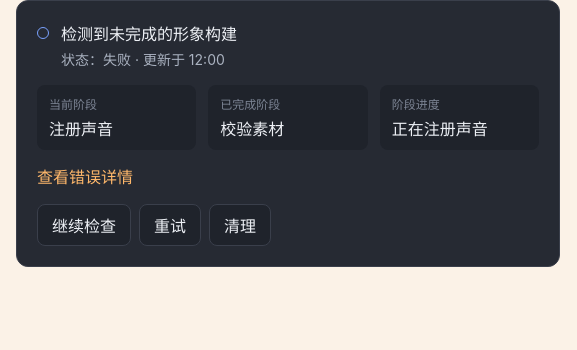
Test case: BuildRecoveryCard › reveals error detail when requested
Click the button "查看错误详情": (85, 176) [37,164,133,188]
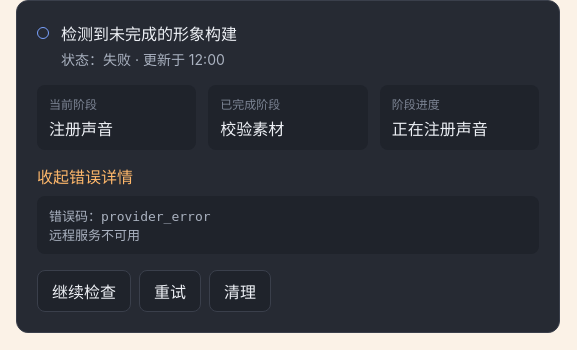
Check: the text "错误码：provider_error 远程服务不可用" is shown, box [37,196,539,254]
